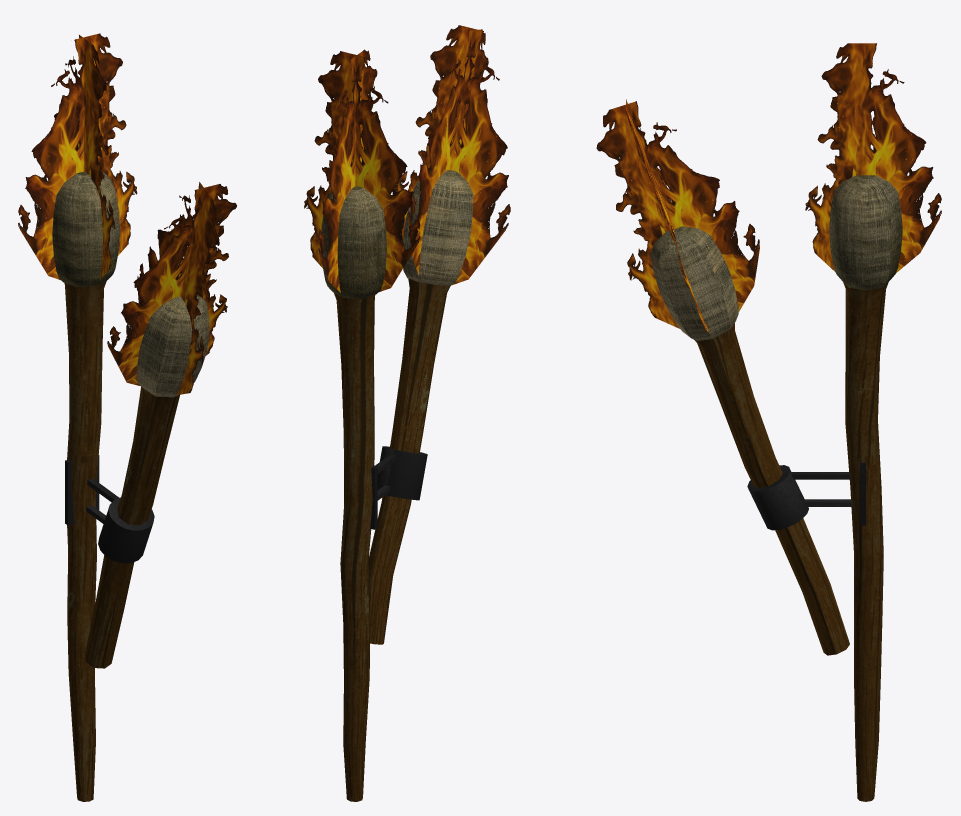
File: SM_Torches.fbx
The picture shows the model from 3 angles, left to right: view 1: azimuth 30°, elevation 25°; view 2: azimuth 150°, elevation 25°; view 3: azimuth 270°, elevation 25°; orthographic projection. The views are drawn at different scales.
Parts seen in each view (by area): view 1: Cylinder.016, Cylinder.013, Flame.005, Flame.002; view 2: Cylinder.016, Cylinder.013, Flame.002, Flame.005; view 3: Cylinder.016, Cylinder.013, Flame.002, Flame.005.
Boxes of the visible parts, x1,y1,x2,y2 form: Cylinder.016: (52,171,120,801); Cylinder.013: (65,295,209,668); Flame.005: (18,33,137,280); Flame.002: (107,182,236,395); Cylinder.016: (321,186,386,801); Cylinder.013: (344,170,473,644); Flame.002: (394,25,510,284); Flame.005: (304,49,420,292); Cylinder.016: (829,175,902,801); Cylinder.013: (650,226,865,655); Flame.002: (596,99,759,333); Flame.005: (805,43,941,272).
Size of the model in its own units: 29.97 by 164 by 76.18.
